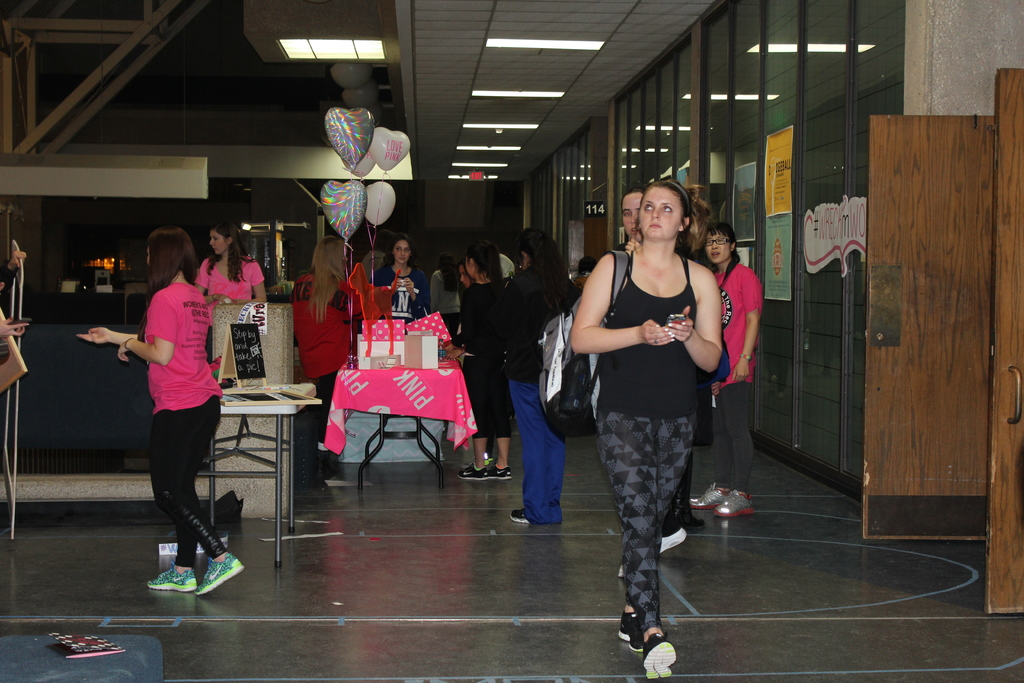person: (193, 219, 267, 303)
